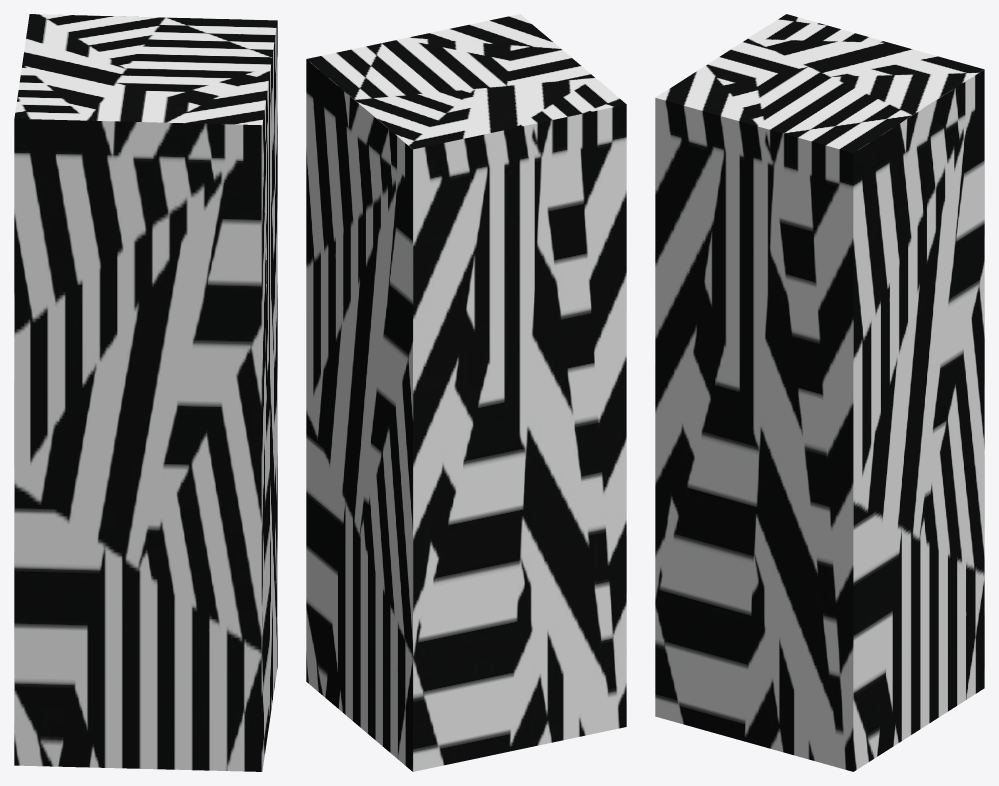
3 views of the same model, side by side, from view 1: azimuth 30°, elevation 25°; view 2: azimuth 150°, elevation 25°; view 3: azimuth 270°, elevation 25° (orthographic). The views are drawn at different scales.
Visible parts, largest first — view 1: Cube.023; view 2: Cube.023; view 3: Cube.023.
Part boxes in pixels (x1,y1,x2,y2): Cube.023: (14, 14, 277, 771); Cube.023: (306, 14, 626, 771); Cube.023: (655, 14, 984, 771).
Size of the model in its own units: 2.77 by 5.75 by 2.77.
Materials: 1 (1 with a texture image).
